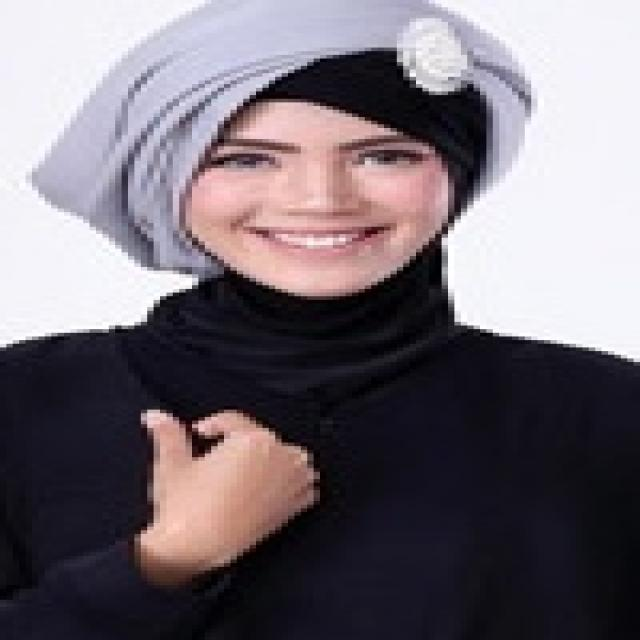head: (120, 4, 487, 308)
